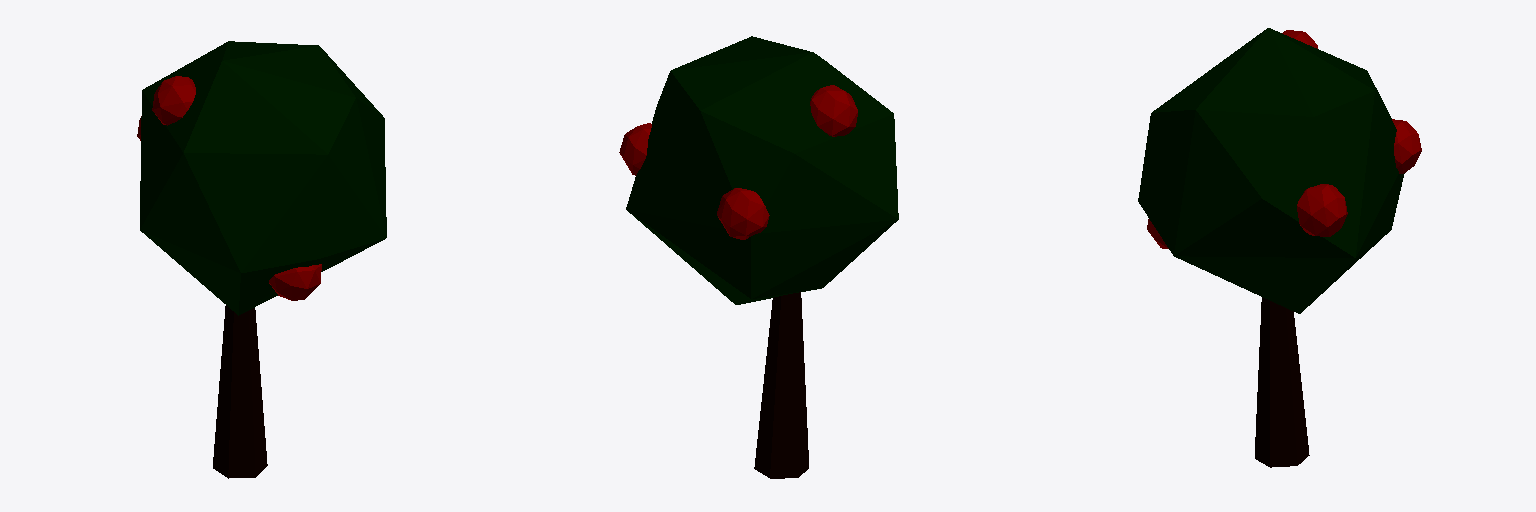
File: Trees.obj
The picture shows the model from 3 angles: view 1: azimuth 30°, elevation 25°; view 2: azimuth 150°, elevation 25°; view 3: azimuth 270°, elevation 25°; orthographic projection.
Size of the model in its own units: 0.5162 by 0.835 by 0.5137.